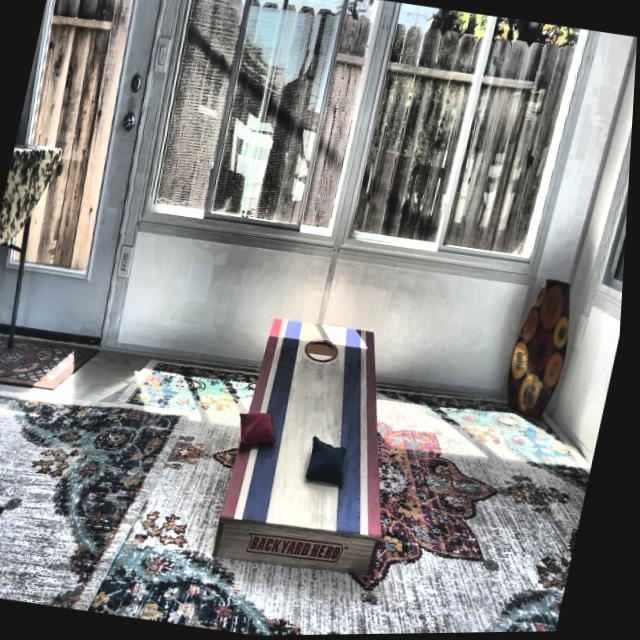blue-bean-bag: (310, 436, 358, 490)
board: (232, 317, 394, 539)
hole: (307, 335, 347, 367)
red-bean-bag: (239, 408, 287, 451)
